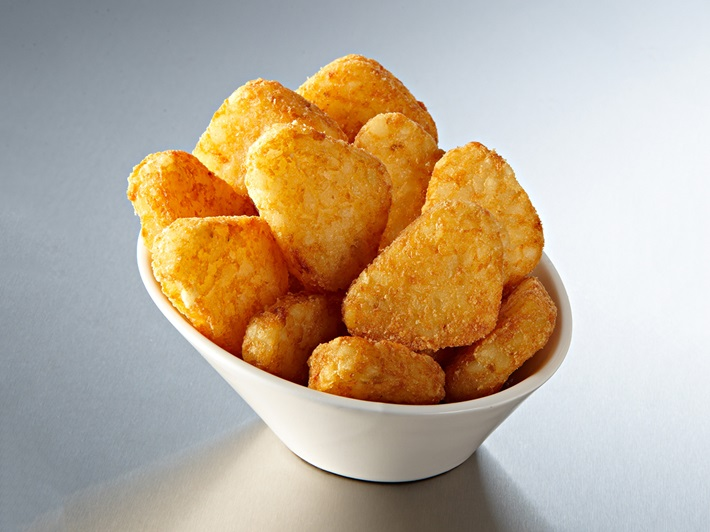triangle_hash_brown: (134, 51, 560, 398)
